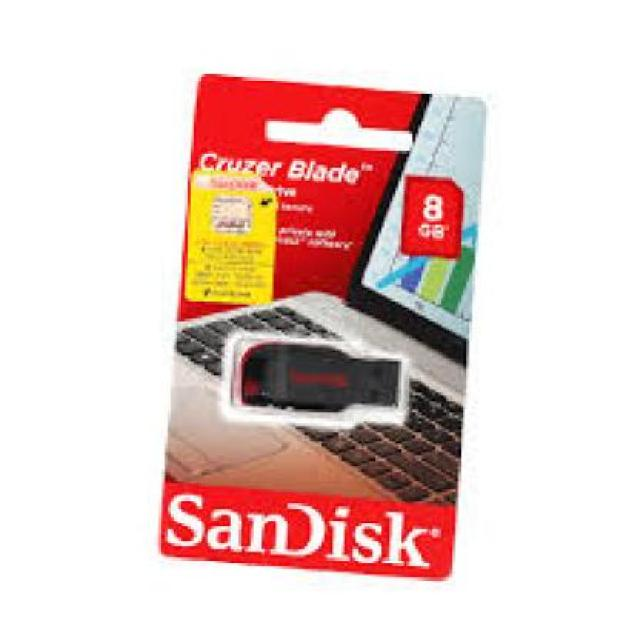Flashdisk: (235, 339, 403, 416)
